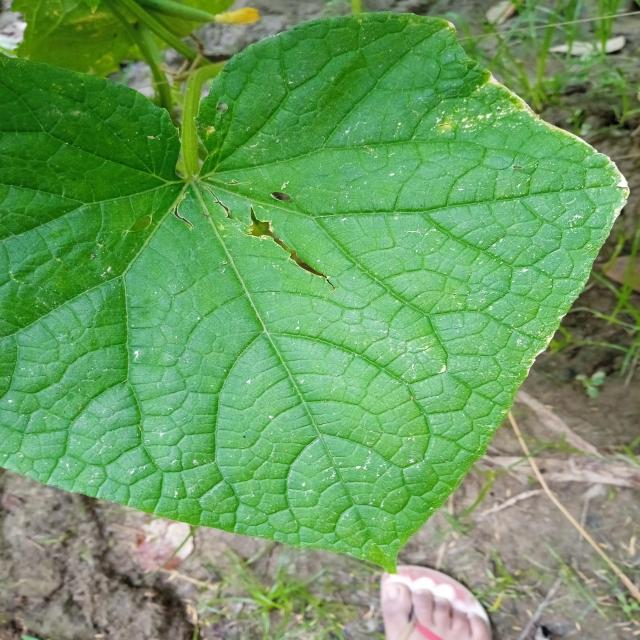cucumber_healthy: (0, 5, 633, 579)
